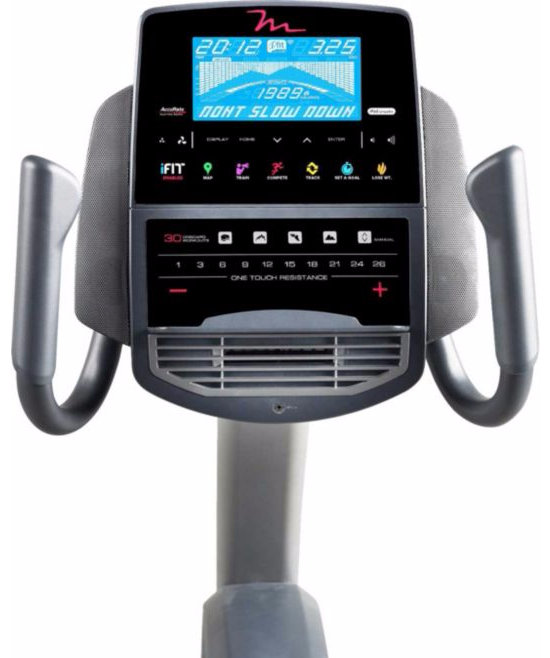gym_bike: (8, 3, 527, 652)
